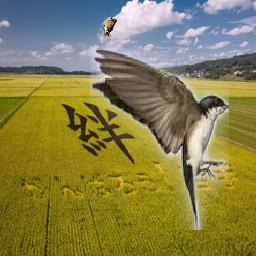Swallow: (91, 48, 230, 230), (103, 18, 117, 37)
